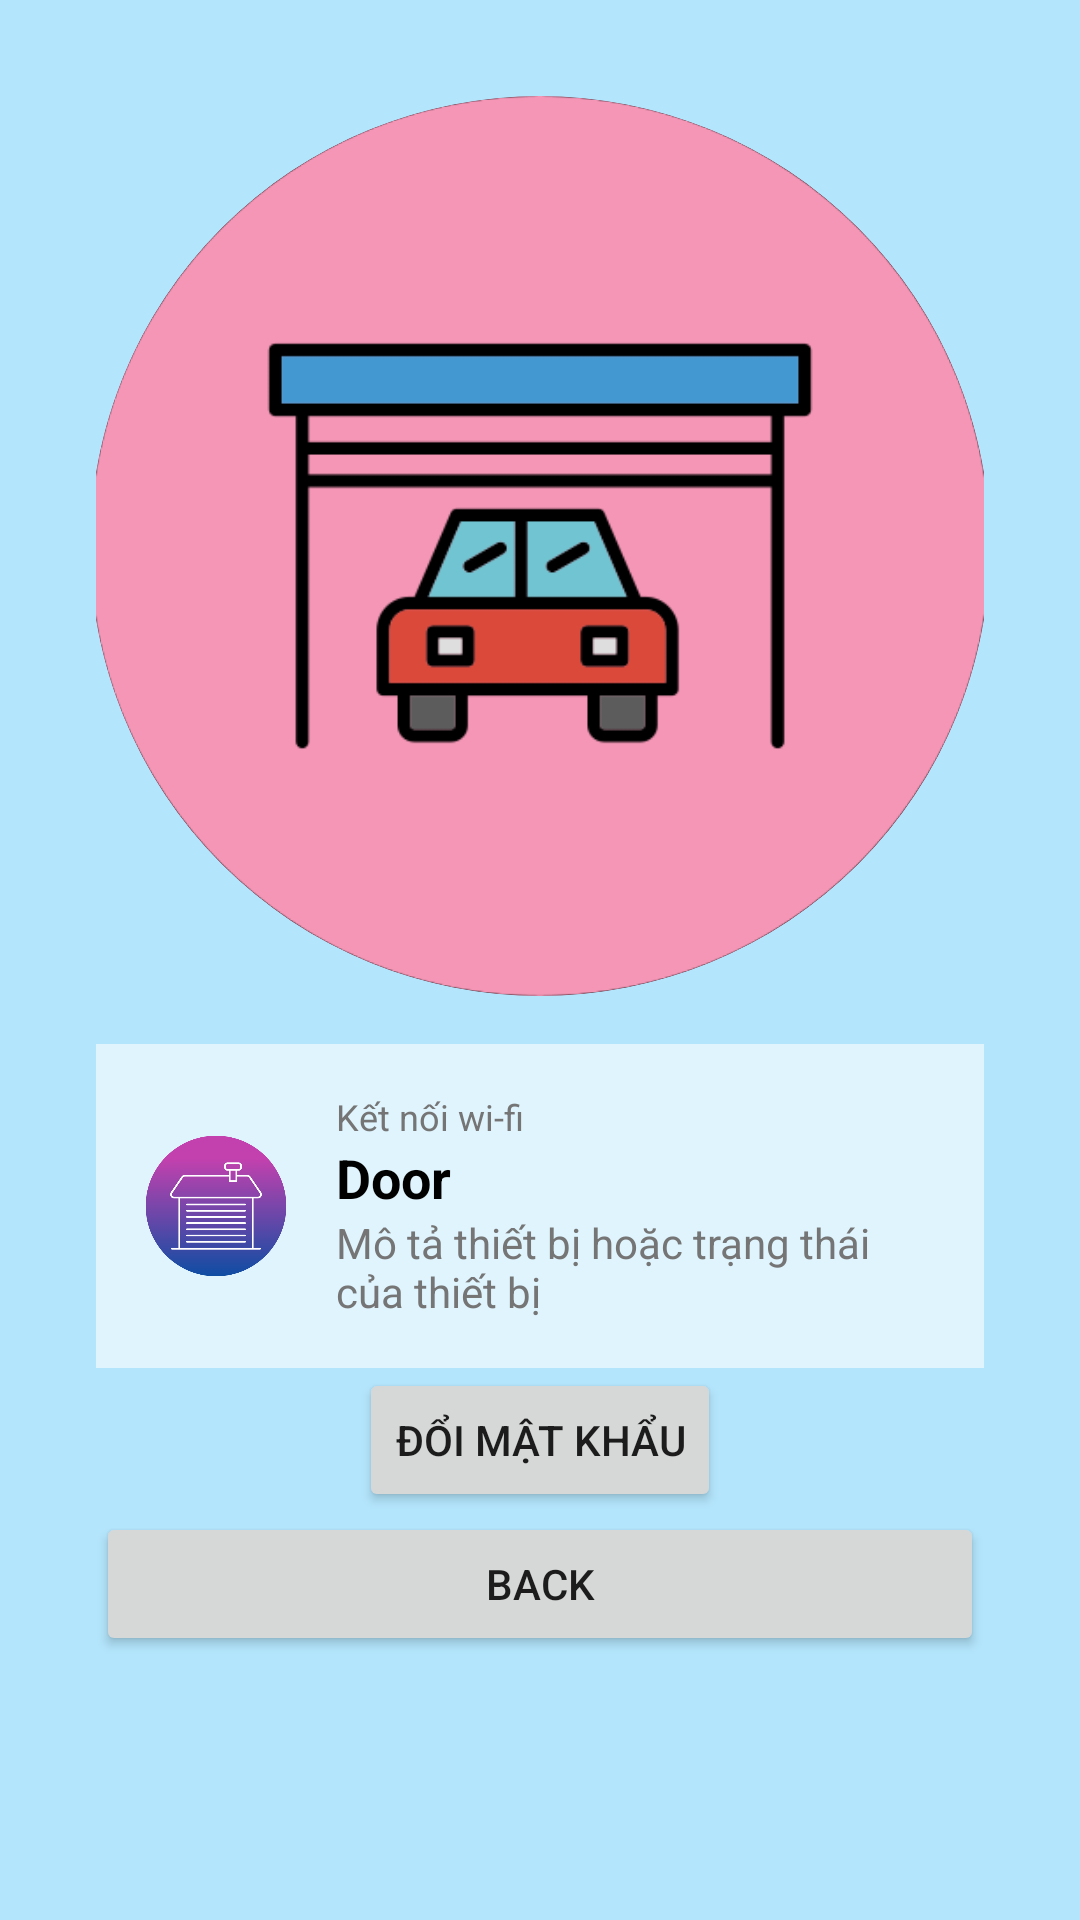

Screen size 1080x1920. Icon name, then its center in pixels as (x=x, y=y):
Device Icon: (x=216, y=1206)
